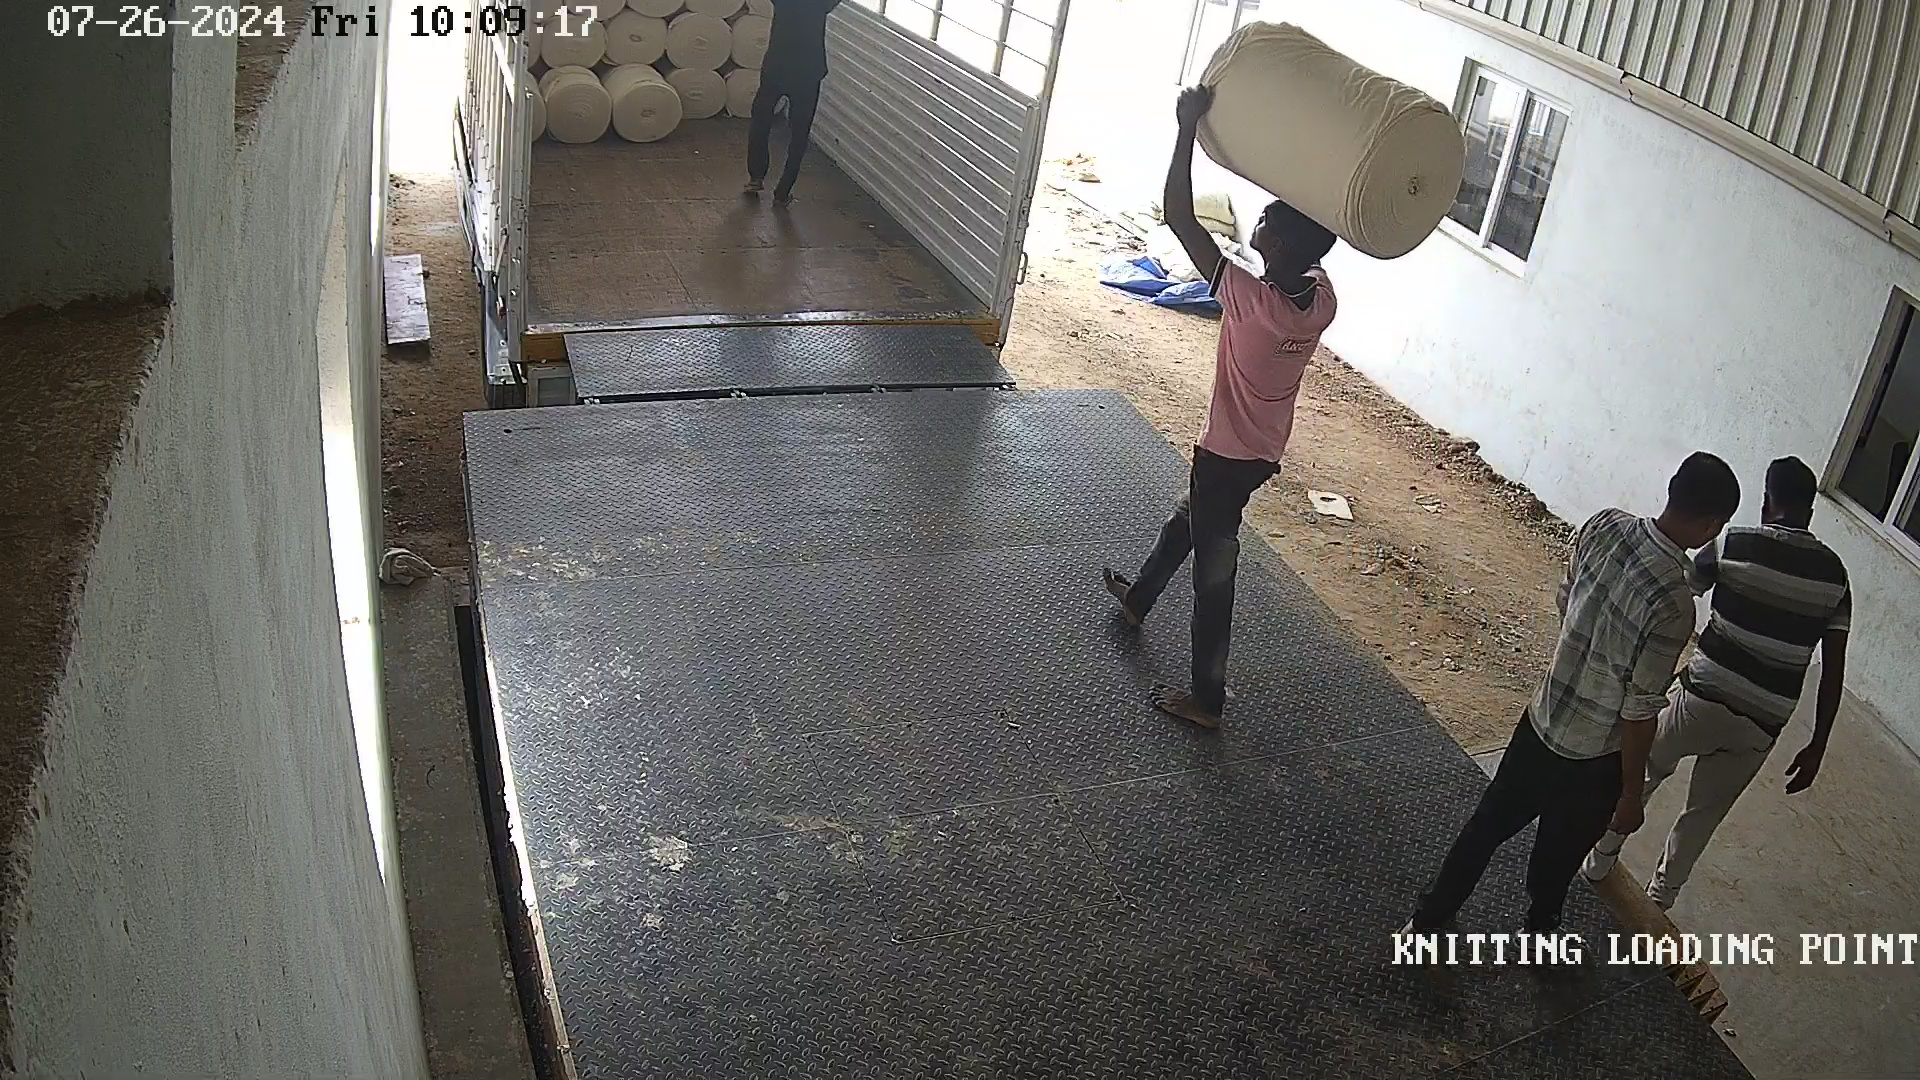bag: (1183, 18, 1473, 266)
